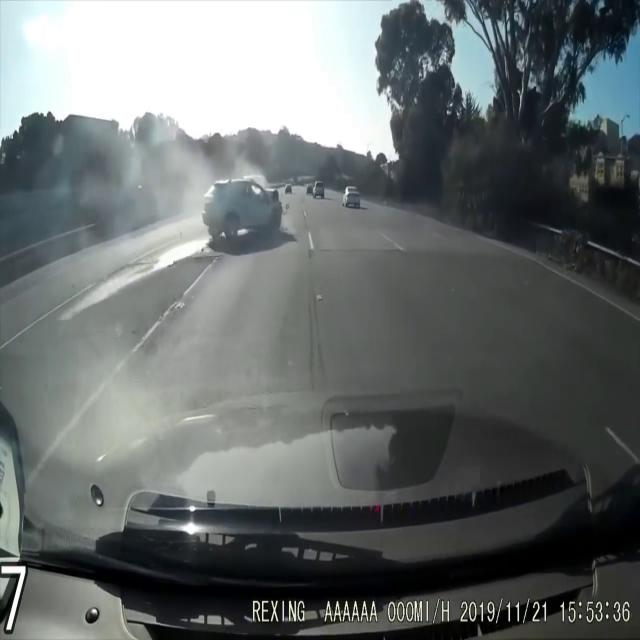accident: (209, 175, 289, 250)
